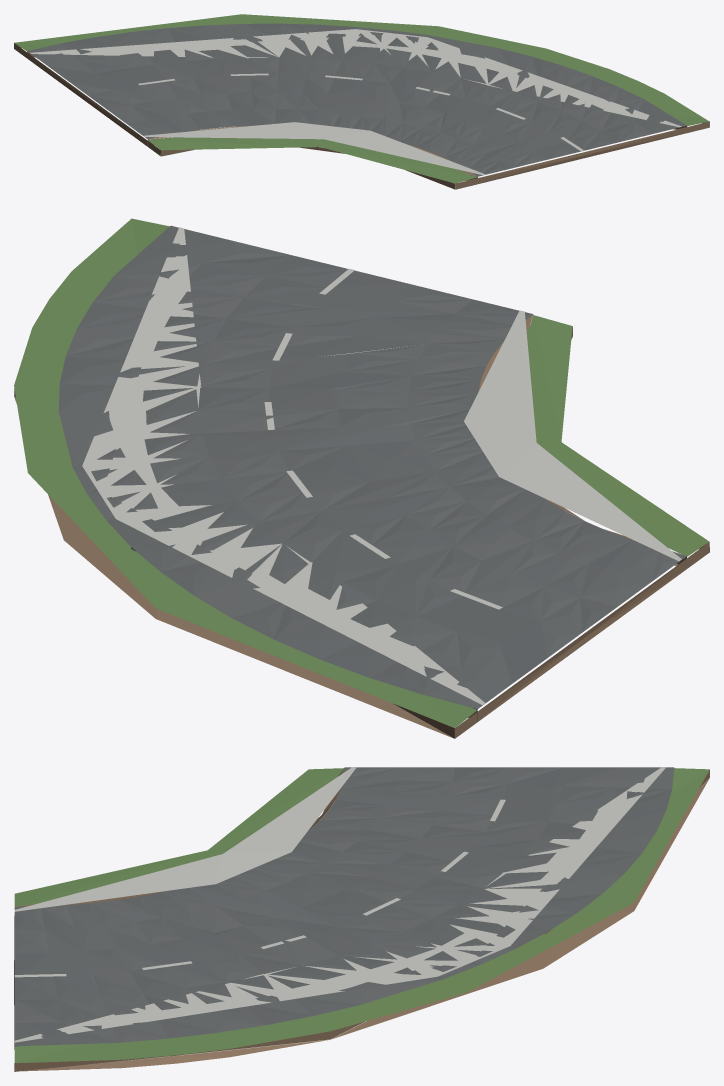
The model's file is asphalt_curve.glb.
The picture shows the model from 3 angles, top to bottom: view 1: azimuth 30°, elevation 25°; view 2: azimuth 150°, elevation 25°; view 3: azimuth 270°, elevation 25°; orthographic projection. The views are drawn at different scales.
Parts seen in each view (by area): view 1: Body.005; view 2: Body.005; view 3: Body.005.
Part boxes in pixels (bbox=[...]): Body.005: bbox=[14, 14, 709, 189]; Body.005: bbox=[14, 218, 709, 738]; Body.005: bbox=[14, 767, 709, 1071].
Size of the model in its own units: 12.65 by 0.229 by 12.65.
